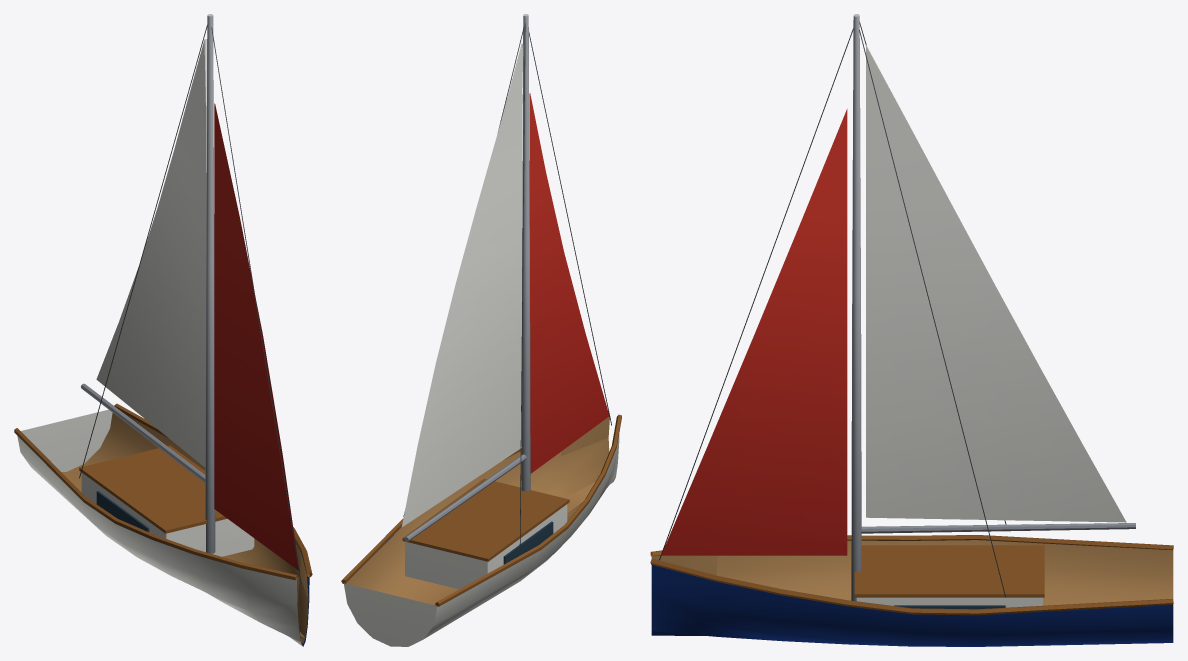
Rendered from Sailboat.fbx.
The picture shows the model from 3 angles, left to right: view 1: azimuth 30°, elevation 25°; view 2: azimuth 150°, elevation 25°; view 3: azimuth 270°, elevation 25°; orthographic projection. The views are drawn at different scales.
Parts seen in each view (by area): view 1: Sailboat_LOD0; view 2: Sailboat_LOD0; view 3: Sailboat_LOD0.
Boxes of the visible parts, <box> form: Sailboat_LOD0: <box>14,14,312,646</box>; Sailboat_LOD0: <box>341,14,621,646</box>; Sailboat_LOD0: <box>650,14,1173,646</box>.
Size of what is drawn, in the model's own units: 1.96 by 7.37 by 5.62.
1 material, 1 textured.
